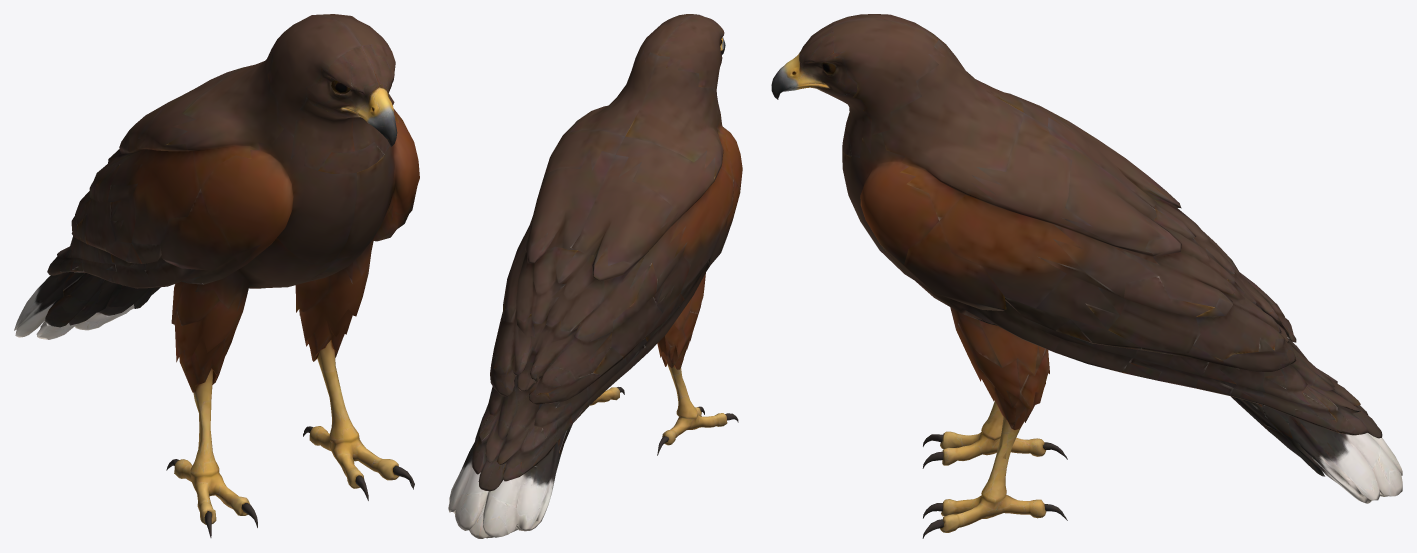
The model's file is hawk-kohaku.glb.
3 views of the same model, side by side, from view 1: azimuth 30°, elevation 25°; view 2: azimuth 150°, elevation 25°; view 3: azimuth 270°, elevation 25° (orthographic). The views are drawn at different scales.
Visible parts, largest first — view 1: geometry_0; view 2: geometry_0; view 3: geometry_0.
Part boxes in pixels (left/top/right/bottom): geometry_0: left=14, top=14, right=419, bottom=537; geometry_0: left=448, top=14, right=742, bottom=538; geometry_0: left=771, top=14, right=1402, bottom=538.
Bounding box in the file's own units: 0.3608 × 0.792 × 0.9531.
Materials: 1 (1 with a texture image).
